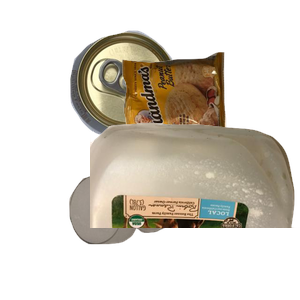glass: (67, 172, 229, 300)
metal: (68, 28, 237, 159)
plastic: (90, 120, 300, 300)
trash: (120, 50, 300, 182)
